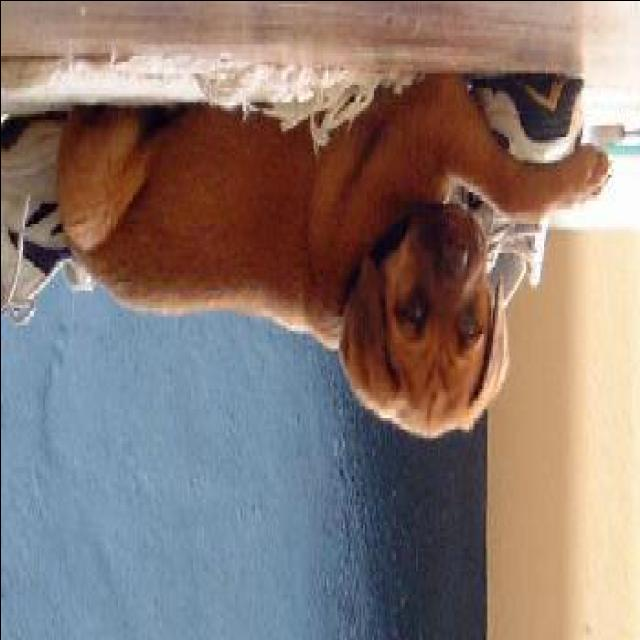rhodesian_ridgeback: (59, 72, 610, 438)
